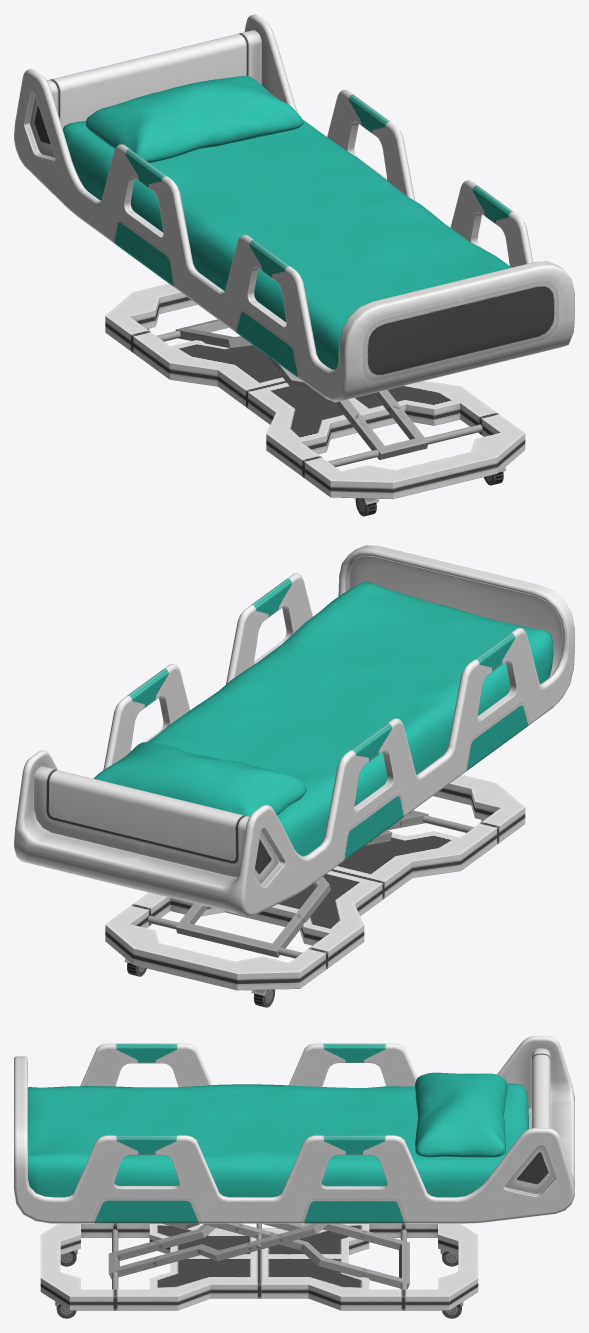
The model's file is MedBed01.FBX.
The picture shows the model from 3 angles, top to bottom: view 1: azimuth 30°, elevation 25°; view 2: azimuth 150°, elevation 25°; view 3: azimuth 270°, elevation 25°; orthographic projection. The views are drawn at different scales.
Parts seen in each view (by area): view 1: MedBed01; view 2: MedBed01; view 3: MedBed01.
Part boxes in pixels (bbox=[...]): MedBed01: bbox=[14, 14, 574, 516]; MedBed01: bbox=[14, 545, 574, 1007]; MedBed01: bbox=[14, 1036, 574, 1318].
Size of what is drawn, in the model's own units: 0.9619 by 0.9869 by 2.41.
